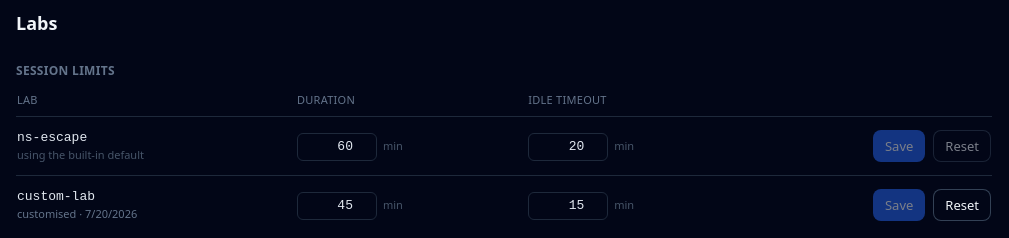
Test case: LabAdminPage › surfaces the API's own reason when a save is rejected
This screenshot has width=1009, height=238.
Step 1. Replace the text in the number field named "Idle timeout for ns-escape" with "90" → (568, 147), box [528, 133, 608, 161]
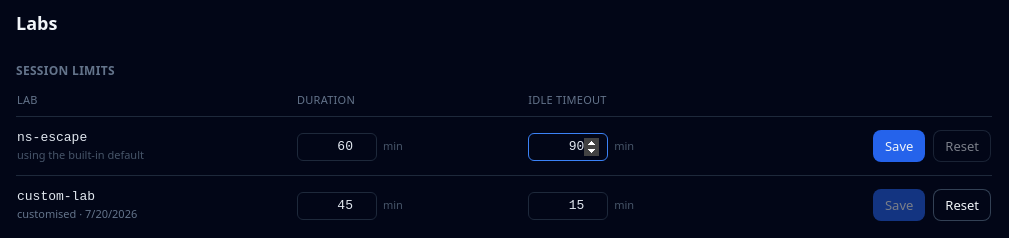
Step 2. Click the button "Save" in the row of "ns-escape" → (899, 146), box [873, 130, 925, 162]
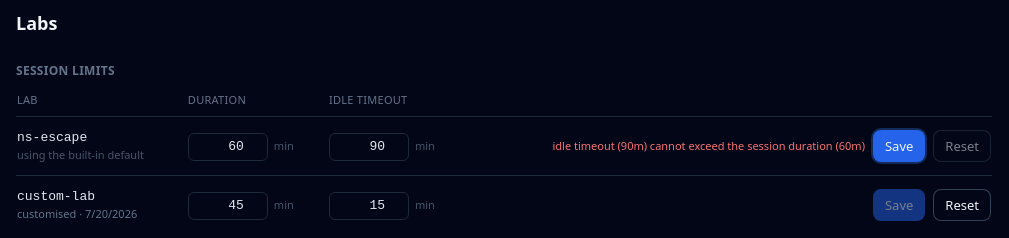
expect the text "idle timeout (90m) cannot exceed the session duration (60m)" is shown: met, box [552, 138, 865, 154]
